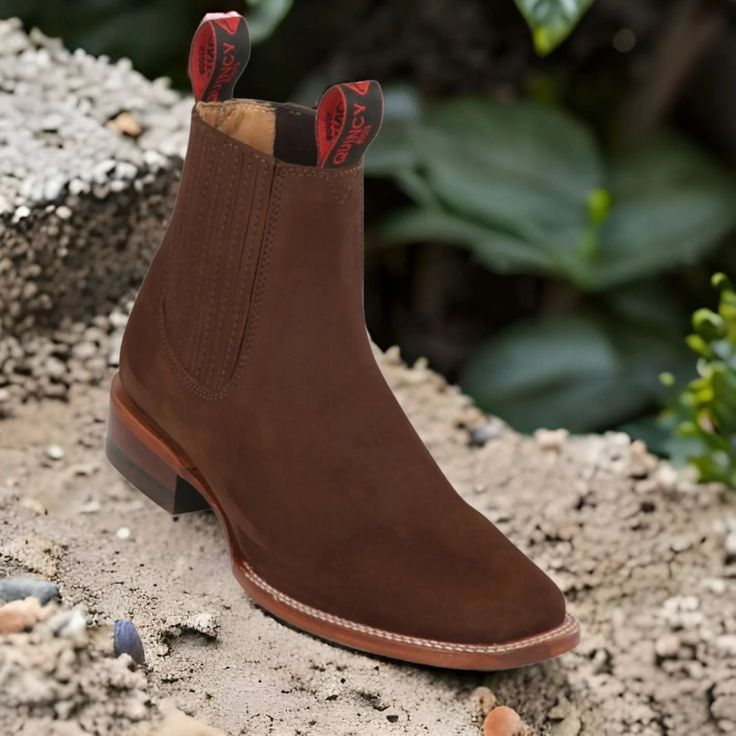gamuza: (118, 106, 566, 645)
